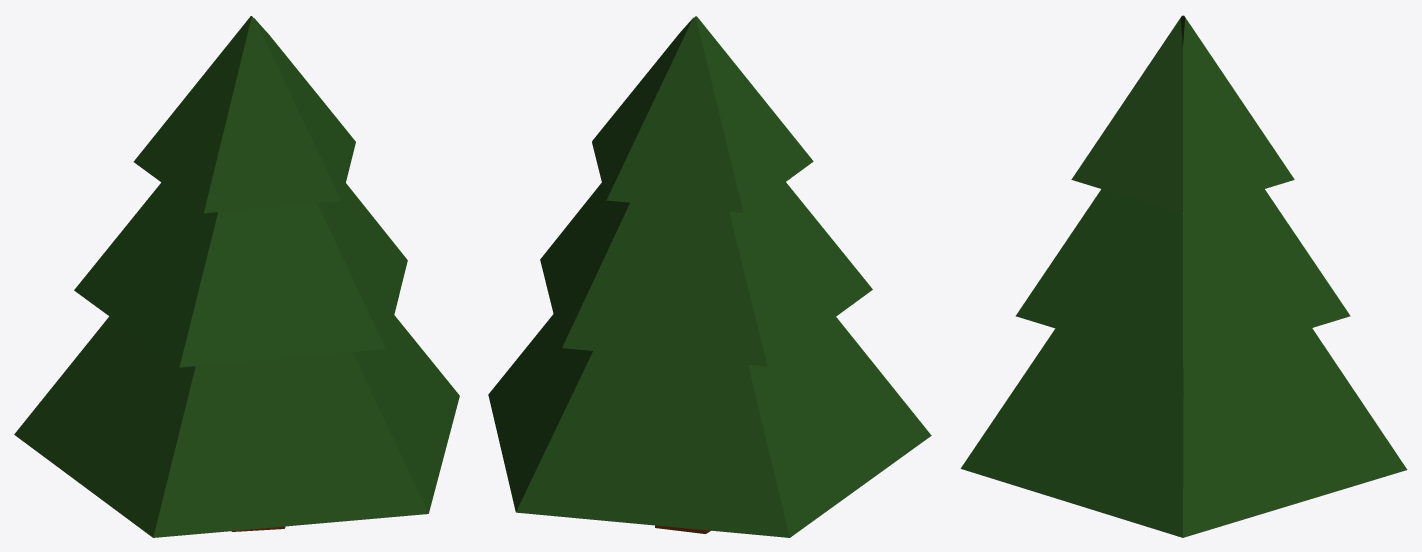
Rendered from tree_lod3.fbx.
The picture shows the model from 3 angles, left to right: view 1: azimuth 30°, elevation 25°; view 2: azimuth 150°, elevation 25°; view 3: azimuth 270°, elevation 25°; orthographic projection.
Parts seen in each view (by area): view 1: tree_lod3; view 2: tree_lod3; view 3: tree_lod3.
Boxes of the visible parts, x1,y1,x2,y2 form: tree_lod3: [14, 16, 459, 537]; tree_lod3: [488, 16, 931, 537]; tree_lod3: [960, 15, 1407, 537].
Size of the model in its own units: 8.98 by 11.49 by 9.42.
